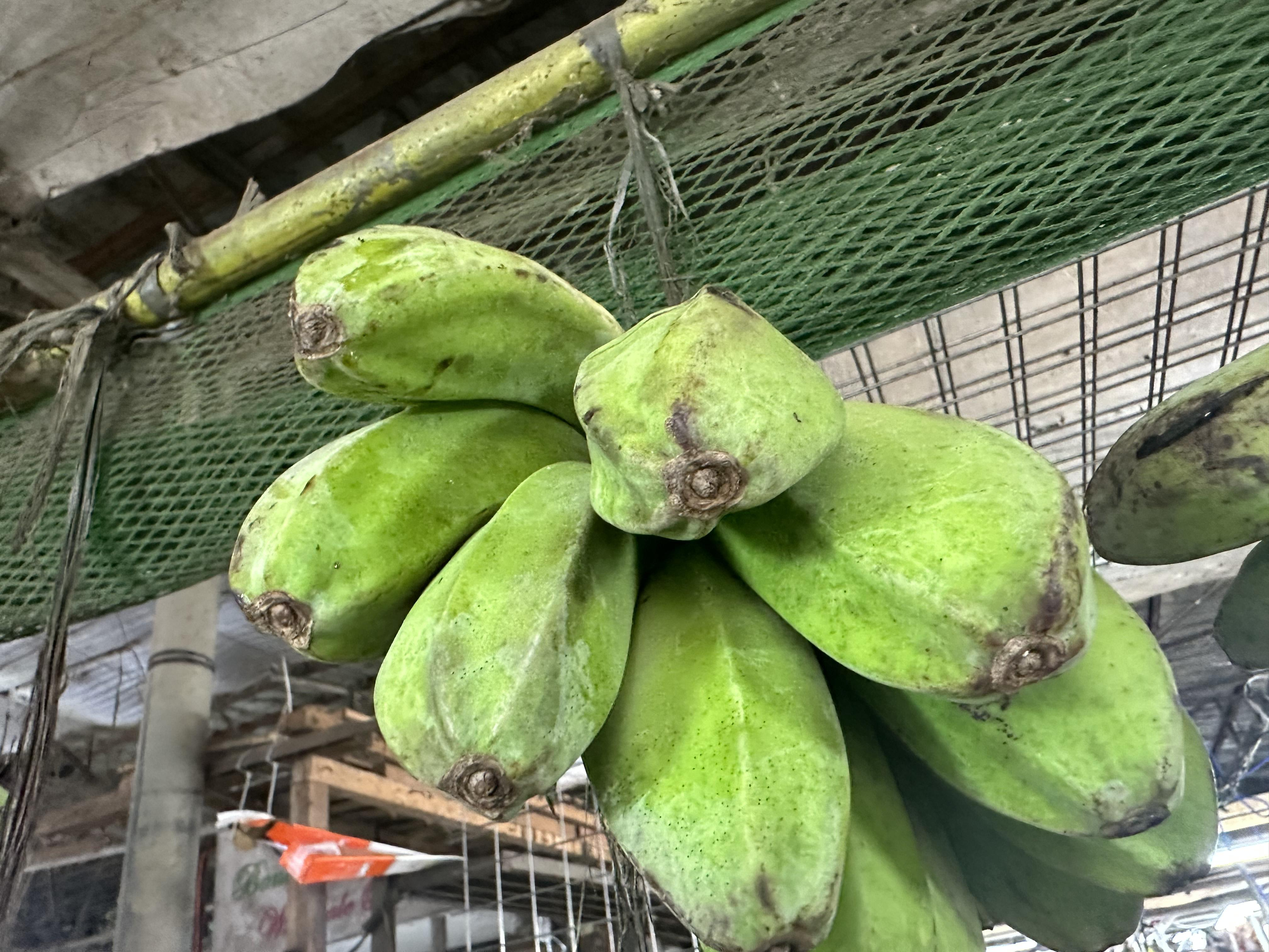underripe: (228, 225, 1216, 952), (1084, 345, 1269, 672)
